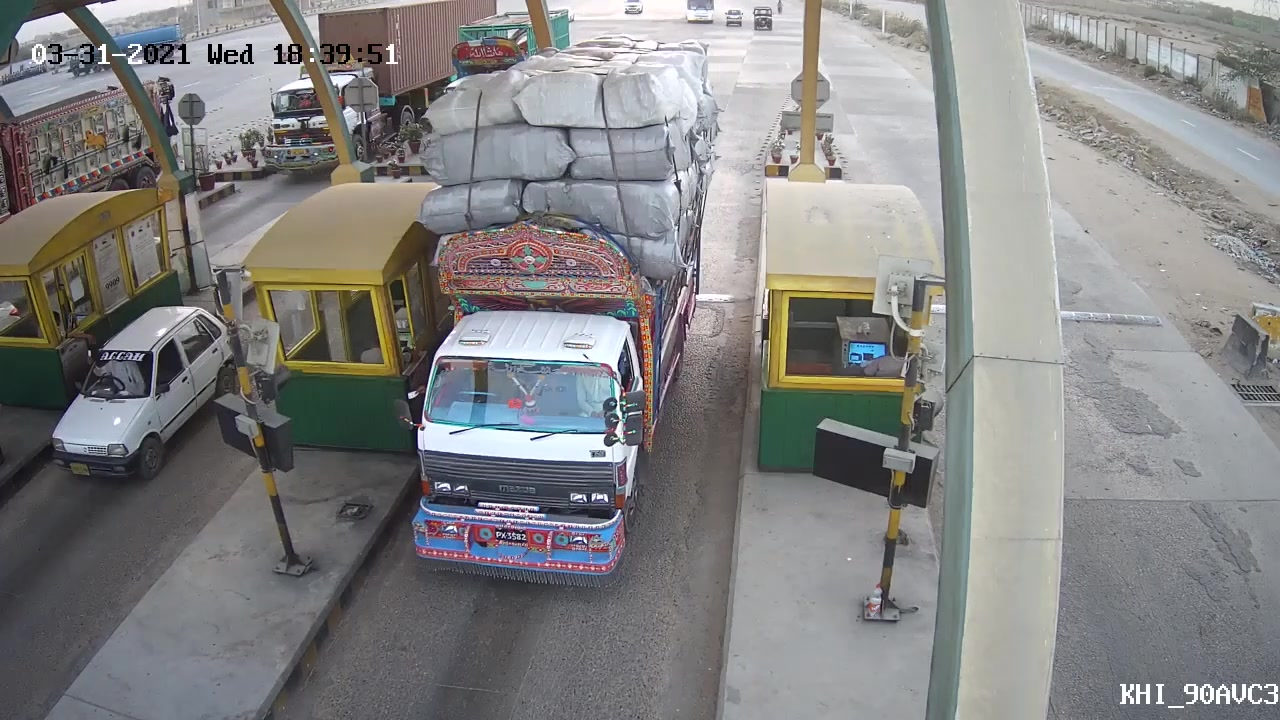F5: (392, 209, 669, 602)
